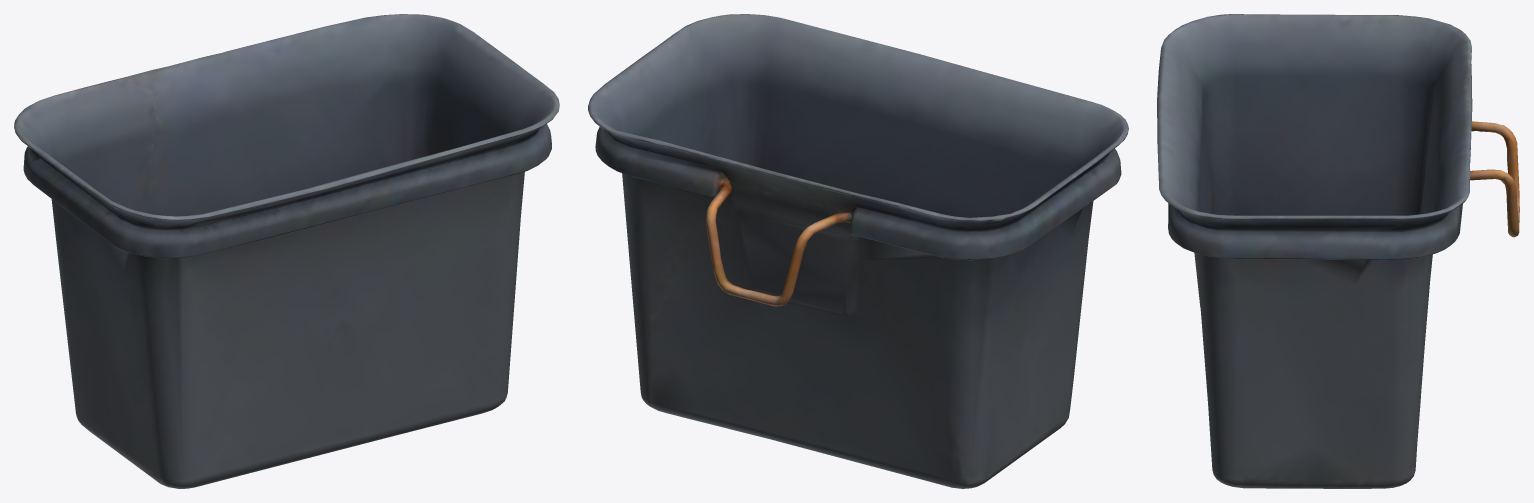
File: Full_Circle_Happy_Scraps_Out_Collector_Gray-high.glb
3 renders of one model, left to right at view 1: azimuth 30°, elevation 25°; view 2: azimuth 150°, elevation 25°; view 3: azimuth 270°, elevation 25°, orthographic. The views are drawn at different scales.
Parts seen in each view (by area): view 1: Full_Circle_Happy_Scraps_Out_Collector_Gray; view 2: Full_Circle_Happy_Scraps_Out_Collector_Gray; view 3: Full_Circle_Happy_Scraps_Out_Collector_Gray.
Boxes of the visible parts, left/top/right/bottom form: Full_Circle_Happy_Scraps_Out_Collector_Gray: left=14, top=14, right=559, bottom=488; Full_Circle_Happy_Scraps_Out_Collector_Gray: left=588, top=14, right=1128, bottom=488; Full_Circle_Happy_Scraps_Out_Collector_Gray: left=1157, top=14, right=1519, bottom=488.
Bounding box in the file's own units: 0.213 × 0.1431 × 0.155.
Materials: 1 (1 with a texture image).
